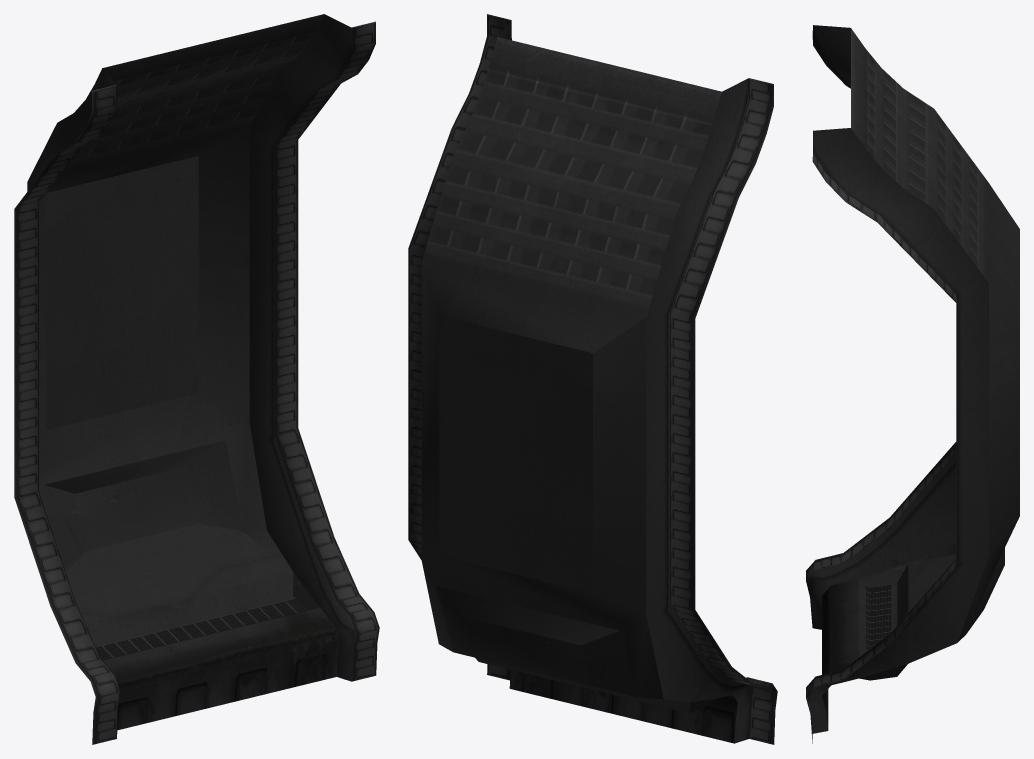
Rendered from WallSmall.fbx.
3 views of the same model, side by side, from view 1: azimuth 30°, elevation 25°; view 2: azimuth 150°, elevation 25°; view 3: azimuth 270°, elevation 25° (orthographic). The views are drawn at different scales.
Parts seen in each view (by area): view 1: WallSmall; view 2: WallSmall; view 3: WallSmall.
Part boxes in pixels (x1=…): WallSmall: x1=14, y1=14, x2=379, y2=744; WallSmall: x1=408, y1=14, x2=777, y2=744; WallSmall: x1=806, y1=25, x2=1019, y2=743.
Bounding box in the file's own units: 2 × 4.4 × 1.41.
